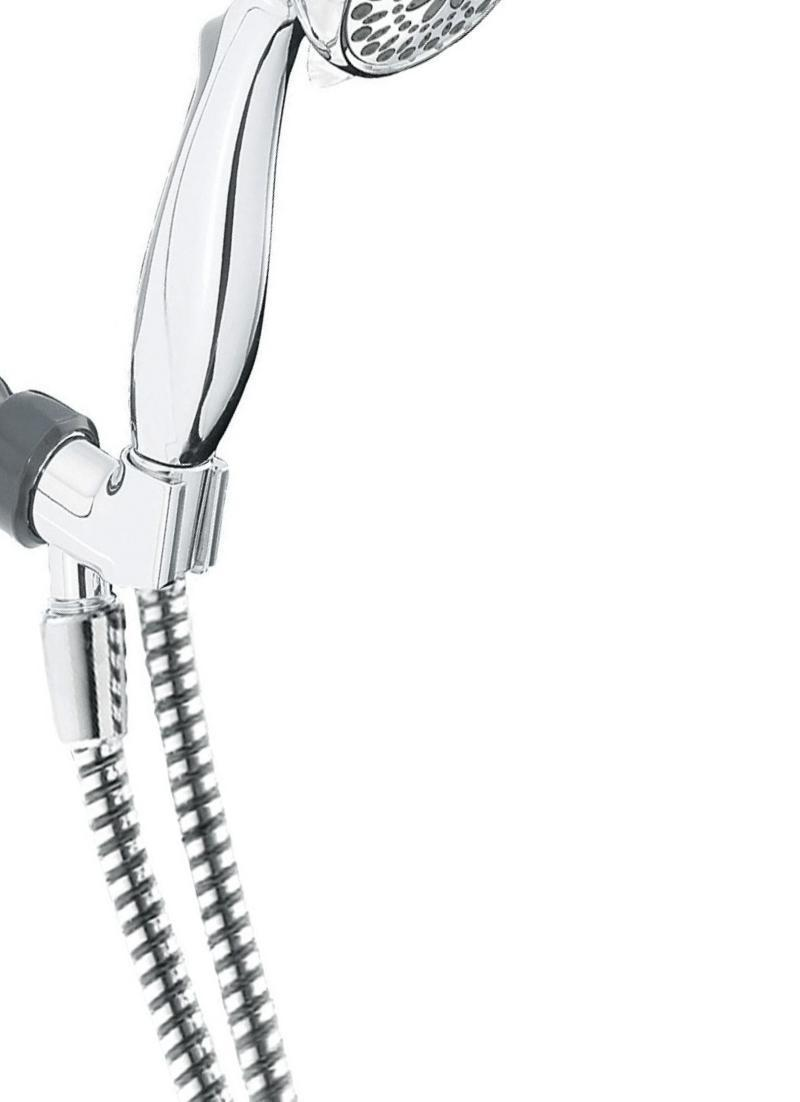Ducha: (0, 0, 566, 1101)
